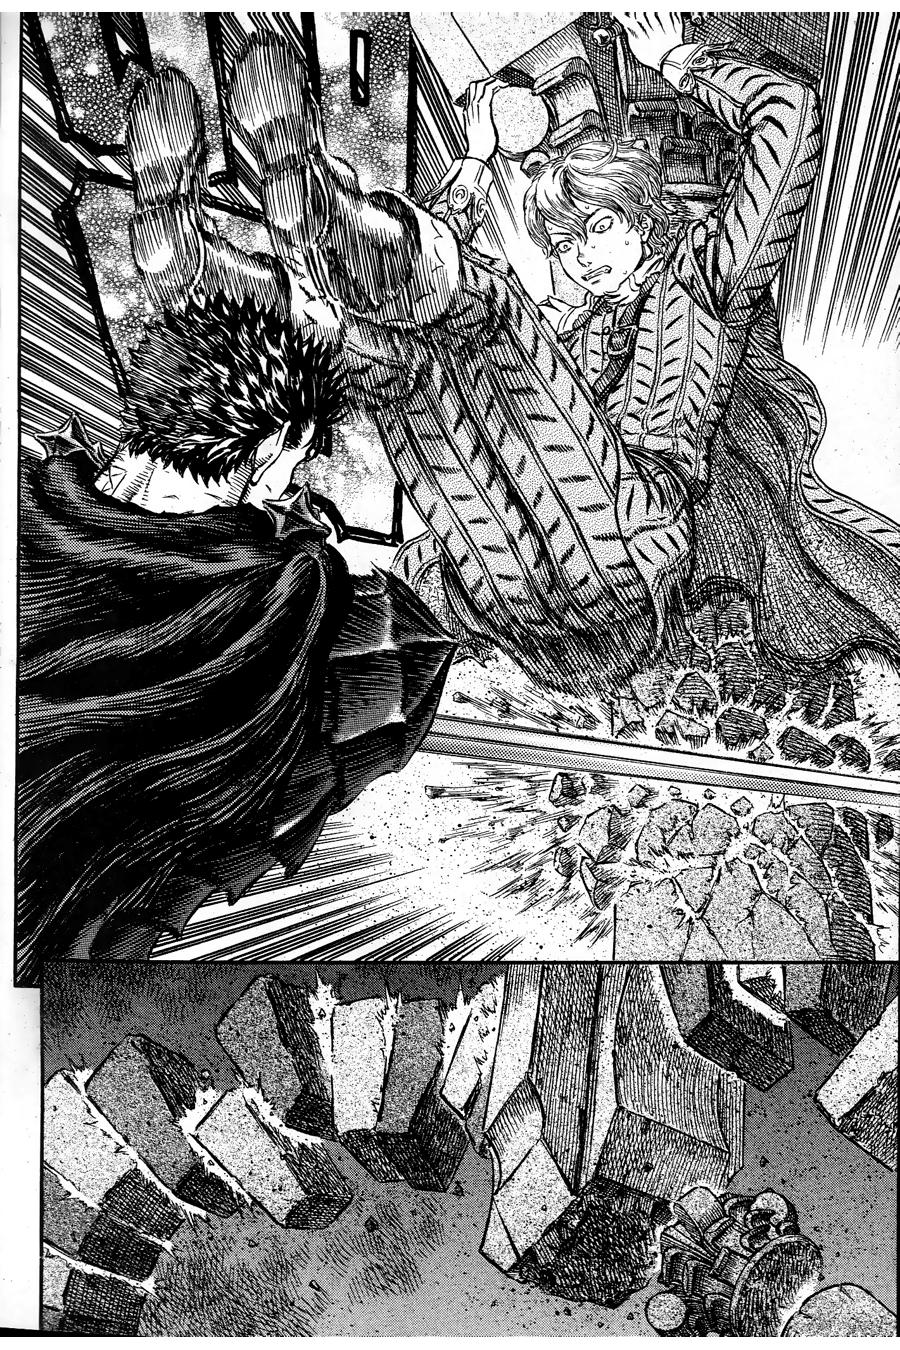Vignetta: (16, 23, 900, 962), (40, 960, 900, 1336)
